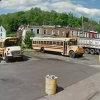Bus: (29, 32, 87, 58)
